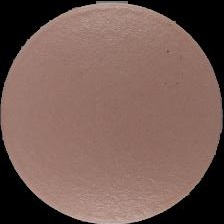54868-3837: (0, 0, 224, 224)
